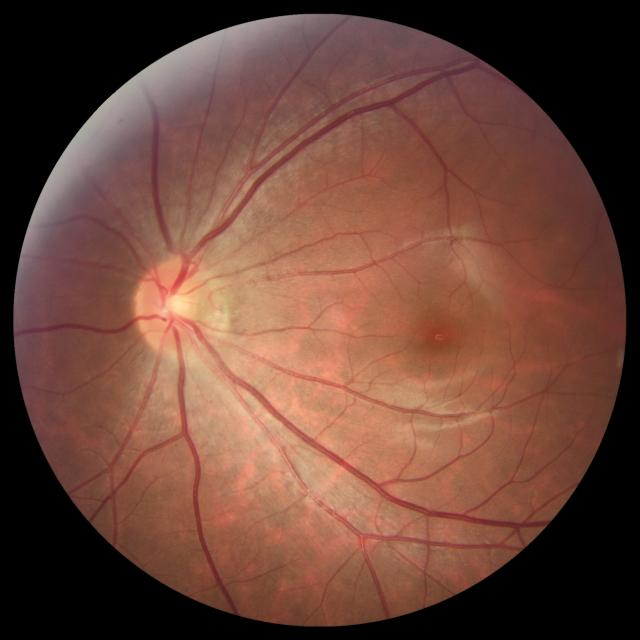OC: (159, 291, 192, 322)
OD: (134, 257, 206, 352)
